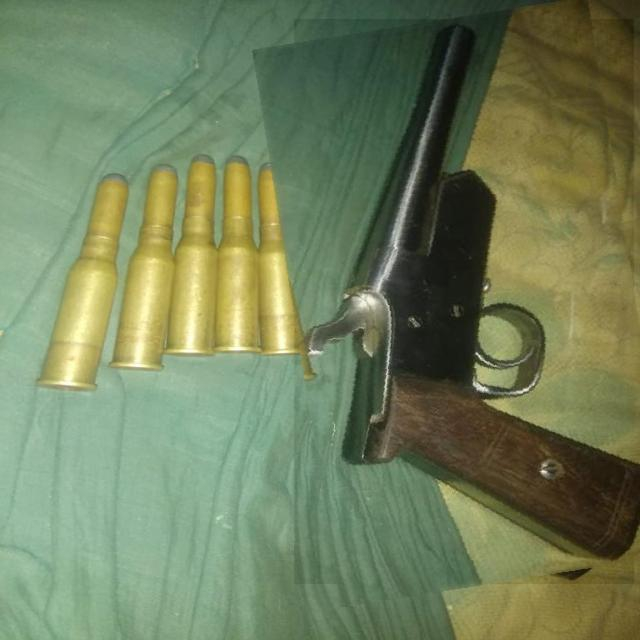handgun: (273, 7, 640, 595)
